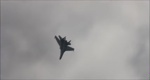maybay_muctieu: (55, 34, 74, 62)
